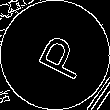P_NW: (24, 27, 86, 83)
